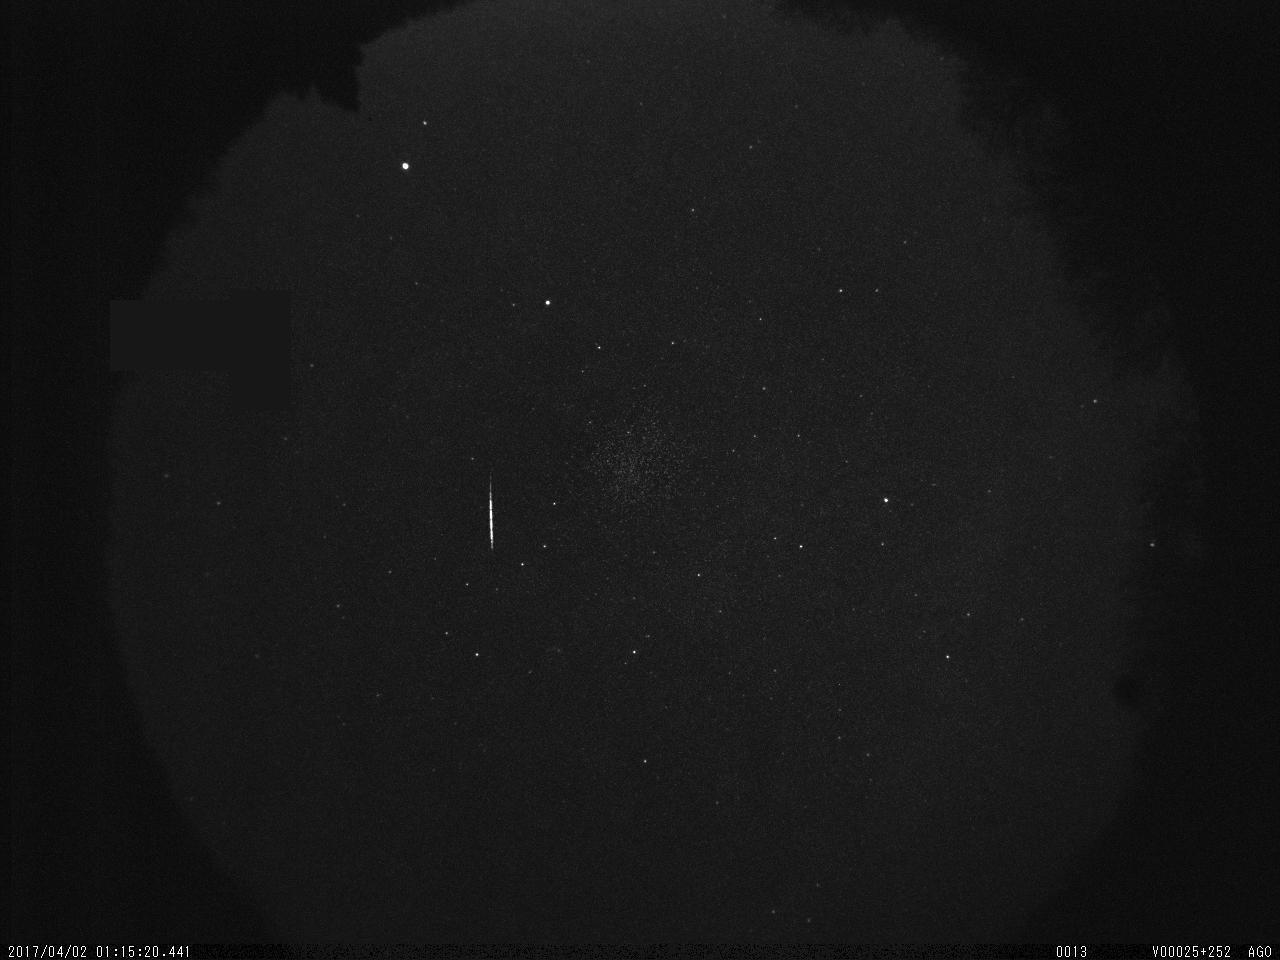meteor: (469, 458, 521, 561)
